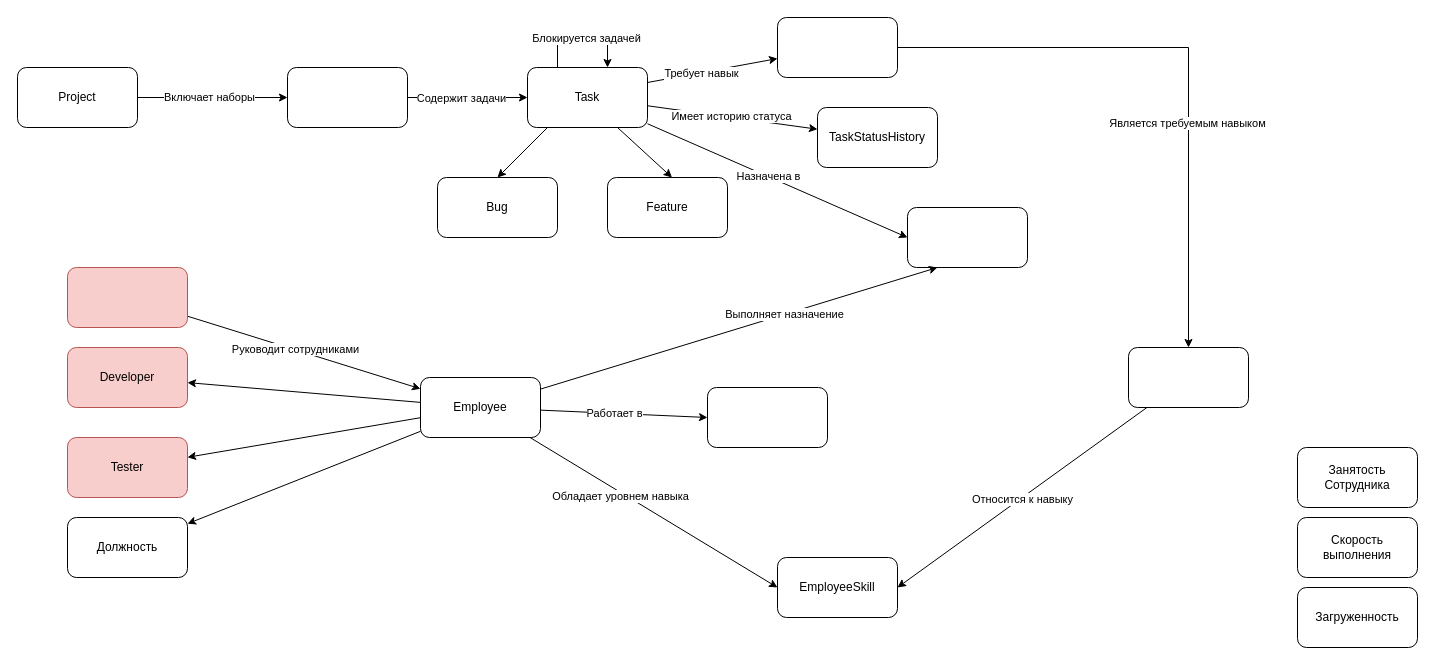
The diagram is 1435 pixels wide and 665 high, and some of its shapes have lost their labels. Here are the shapes that lost their labels. From the top down, the box of each, then its label:
(776, 16, 898, 78): RequiredSkill
(286, 66, 408, 128): TaskSet
(906, 206, 1028, 268): Assignement
(66, 266, 188, 328): Manager
(1128, 346, 1248, 408): Skill
(706, 386, 828, 448): Location
